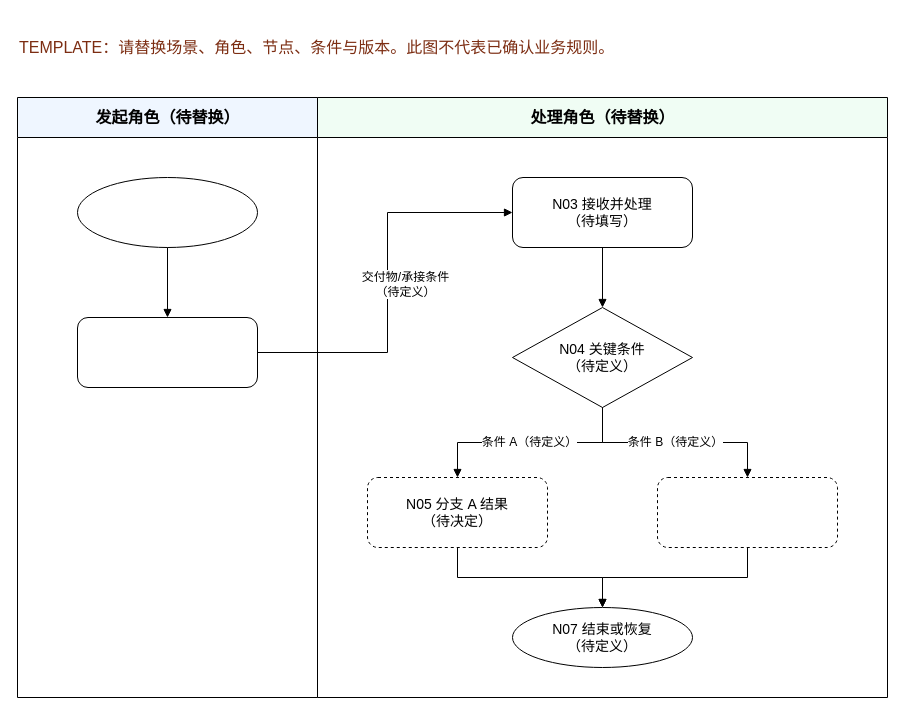
Some shapes in this 905 by 715 pixel diagram are drawn without their labels. The shapes that lost their labels are listed below. From the top down, each one's centre as x and y in pixels, then its label:
At point (167, 212): "N01 业务触发 （待填写）".
At point (167, 352): "N02 提交业务输入 （待填写）".
At point (747, 512): "N06 分支 B 结果 （待决定）".
